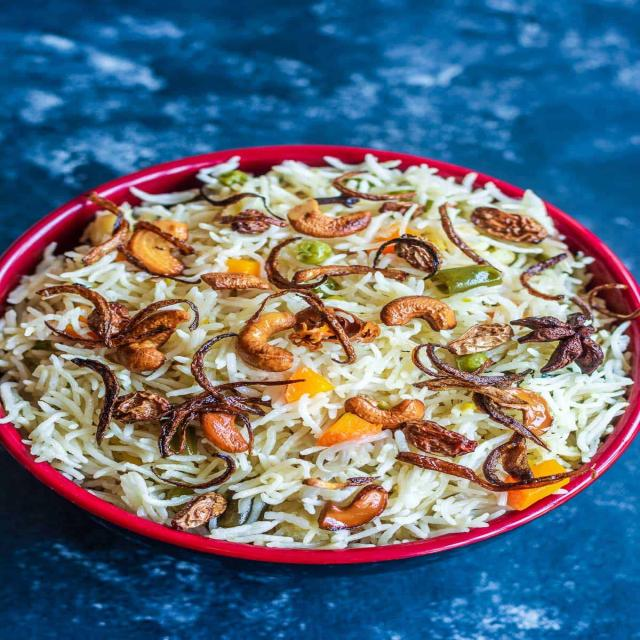nei satham: (0, 133, 638, 549)
